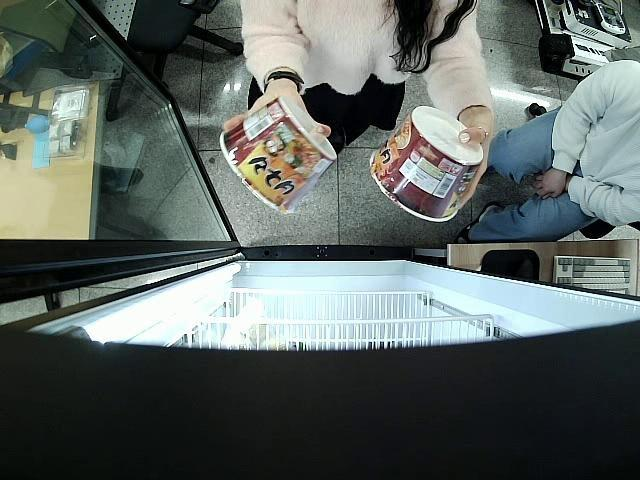05_nuguri_L: (218, 96, 338, 216), (366, 104, 484, 223)
